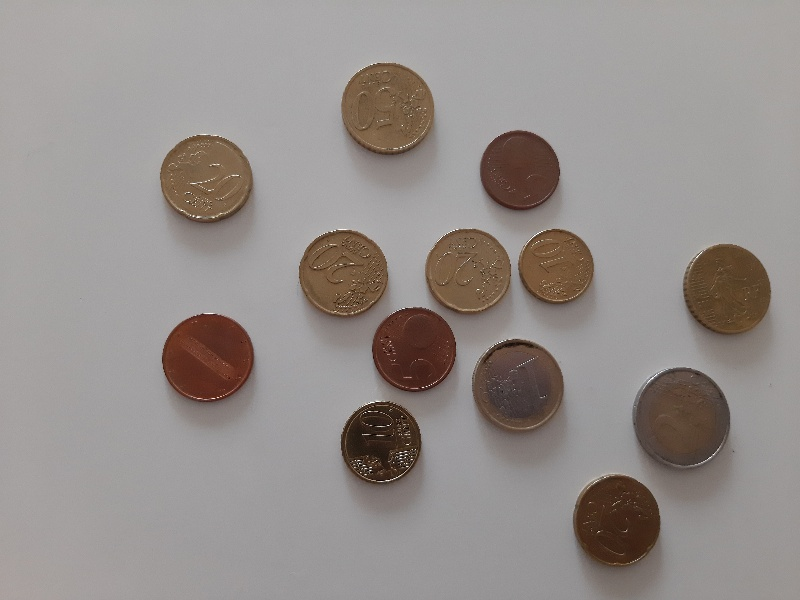1 euro: (469, 336, 567, 435)
10 cent: (338, 398, 424, 484), (518, 226, 598, 306)
2 euro: (628, 364, 732, 473)
20 cent: (158, 130, 257, 224), (569, 474, 667, 568), (297, 226, 391, 318), (423, 226, 517, 314)
5 cent: (160, 310, 259, 406), (372, 304, 457, 393), (479, 129, 566, 212)
50 cent: (340, 60, 438, 154), (680, 241, 775, 337)
